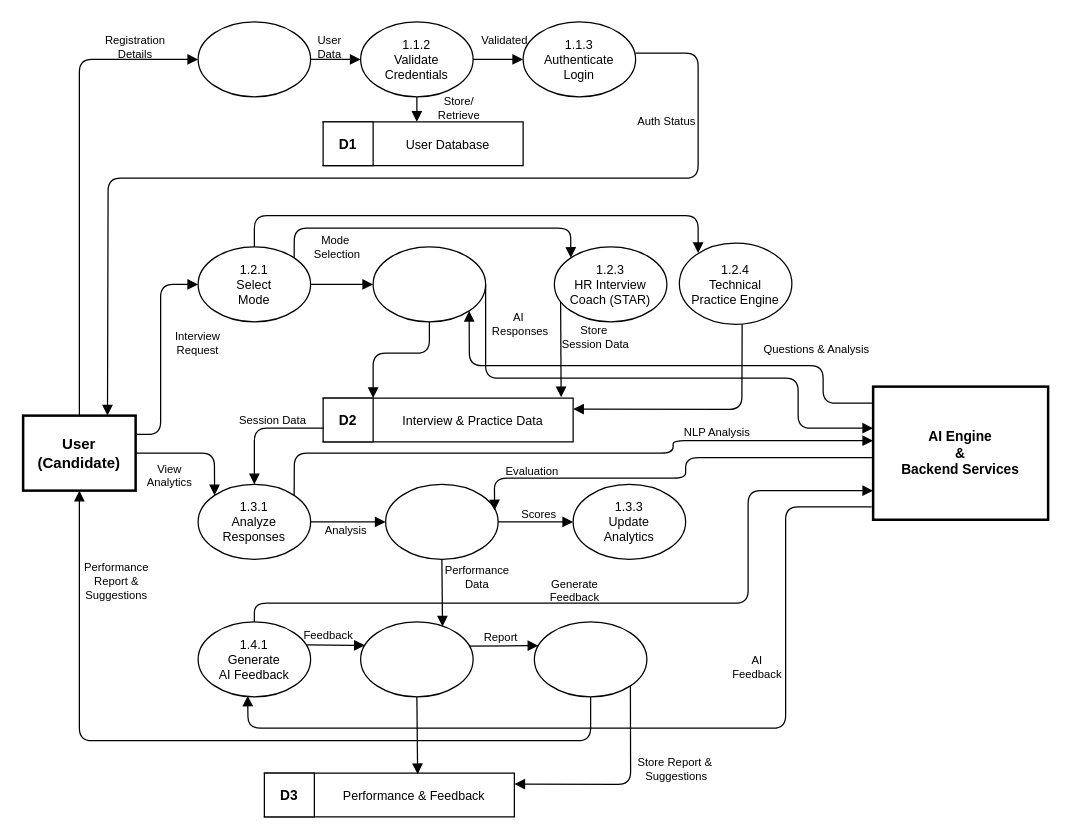
This 1070x839 diagram has some shape labels left out. Here are the shapes that lost their labels. From the top down, the centre of each, then its label:
the point at 254,59: 1.1.1 Register User
the point at 429,284: 1.2.2 Conduct AI Interview
the point at 441,521: 1.3.2 Calculate Score
the point at 416,659: 1.4.2 Create Report
the point at 590,659: 1.4.3 Suggest Improvements
